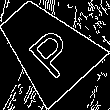P_NW: (16, 17, 78, 78)
